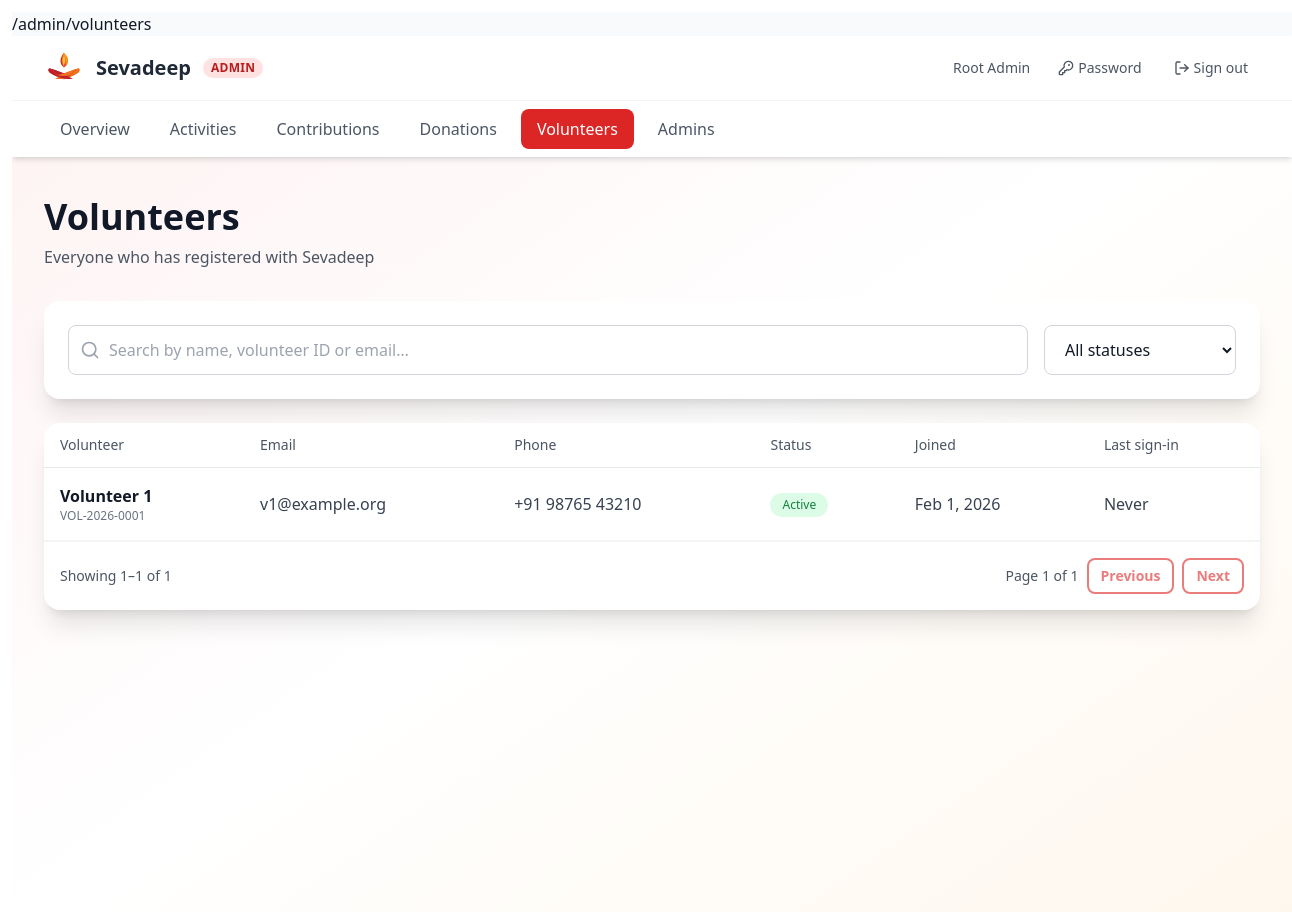
Volunteers list › searches (debounced) and reflects it in the URL
Expected: the link "Volunteer 1" is shown, [60, 485, 152, 507]
Type "asha" into the search field named "Search volunteers" at point(548, 350), box [68, 325, 1028, 375]
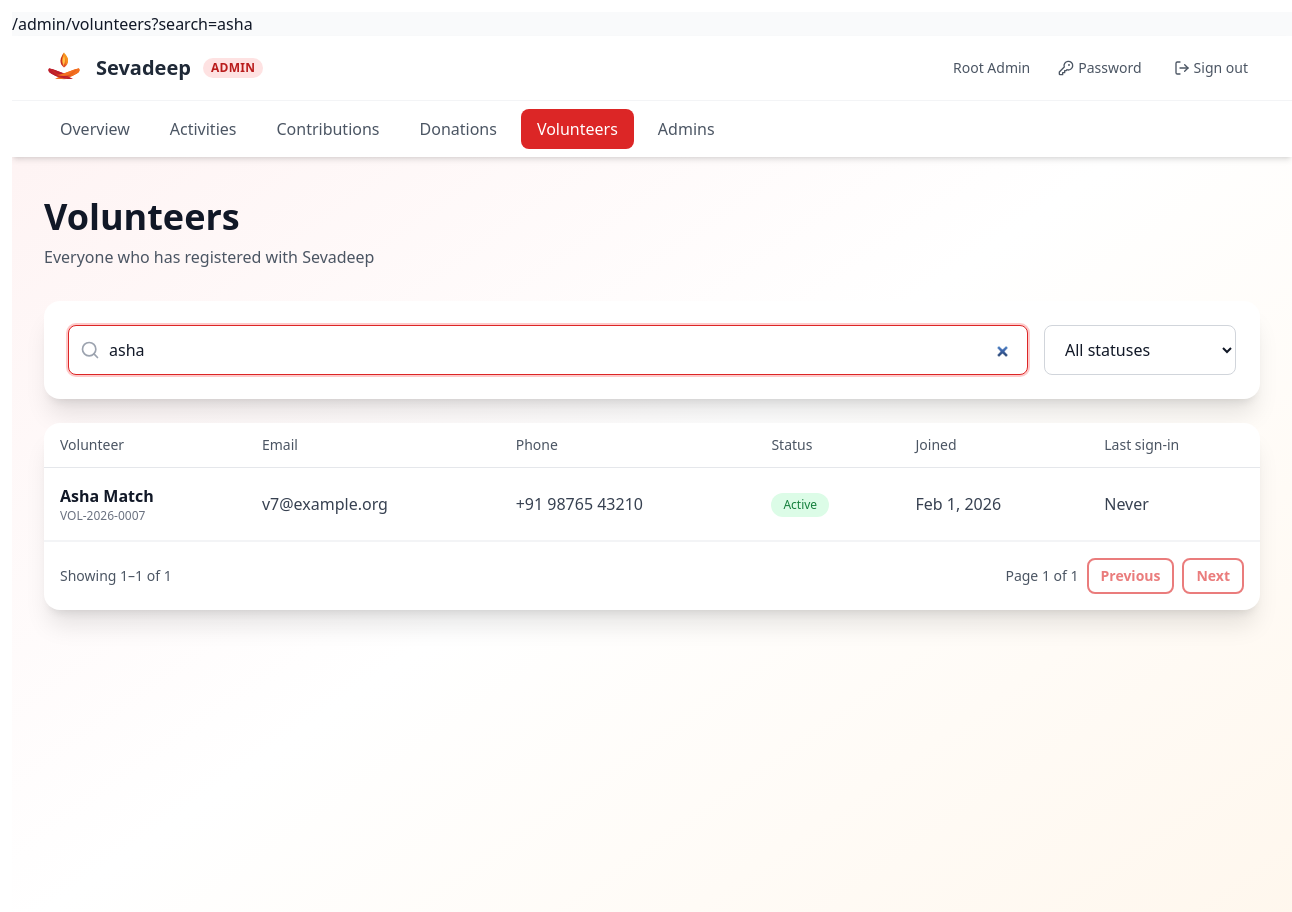
Expected: the link "Asha Match" is shown, [60, 485, 154, 507]
Expected: the text with test id "location" reads "/admin/volunteers?search=asha", [12, 13, 253, 35]
